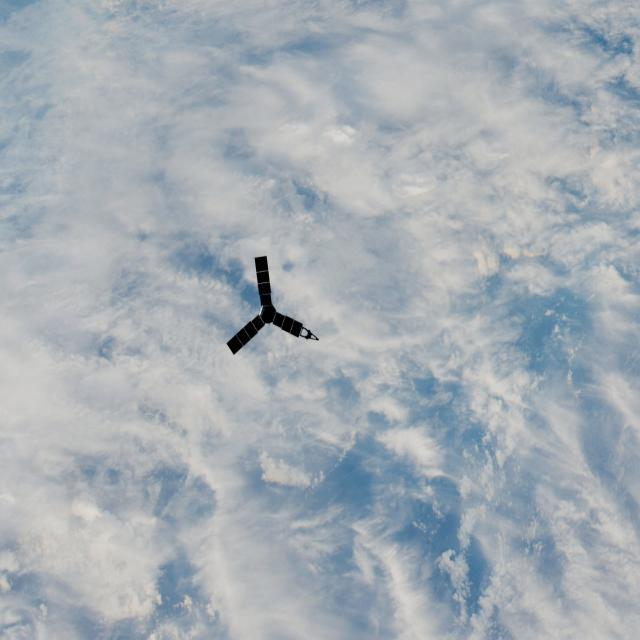satellite: (225, 243, 333, 362)
